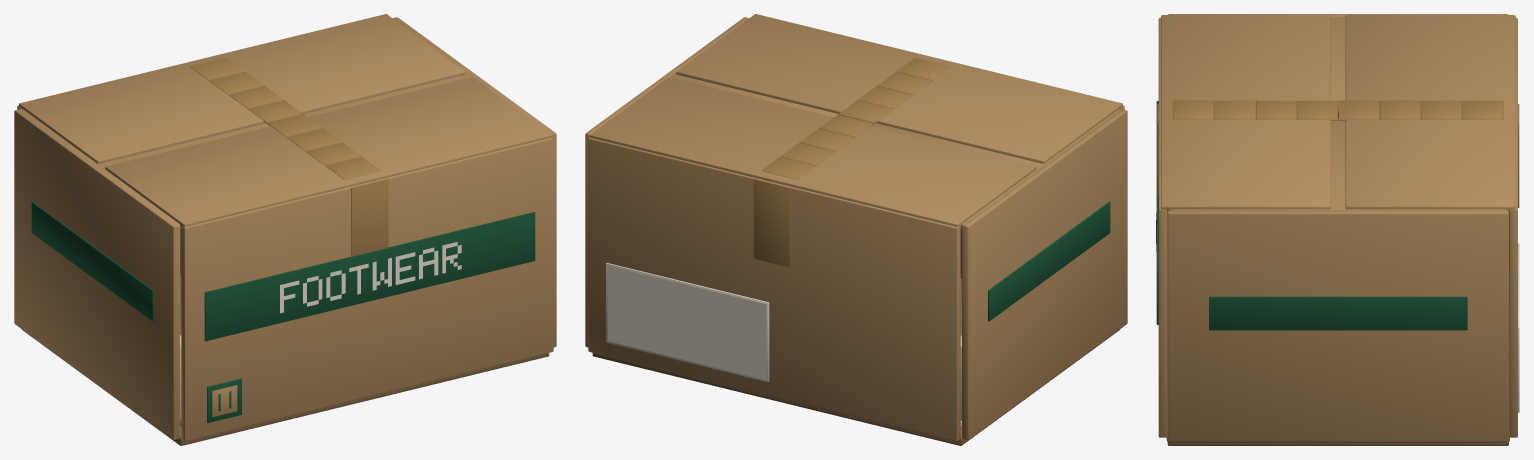
File: delivery_shoe_carton.glb
The picture shows the model from 3 angles, left to right: view 1: azimuth 30°, elevation 25°; view 2: azimuth 150°, elevation 25°; view 3: azimuth 270°, elevation 25°; orthographic projection. The views are drawn at different scales.
Visible parts, largest first — view 1: BOX_FRONT, BOX_LEFT, FLAP_TOP_FRONT, FLAP_TOP_BACK, LABEL_MAIN, TAPE_CENTER, CATEGORY_SIDE_BAND_LEFT, TAPE_SIDE_FRONT, LABEL_CATEGORY_TEXT, BOX_BASE, BOX_RIGHT, FLAP_TOP_LEFT (+3 smaller); view 2: BOX_BACK, BOX_LEFT, FLAP_TOP_BACK, FLAP_TOP_FRONT, LABEL_DYNAMIC, TAPE_CENTER, CATEGORY_SIDE_BAND_LEFT, TAPE_SIDE_BACK, BOX_BASE, BOX_RIGHT, SHIPPING_LABEL_BACKING, FLAP_TOP_LEFT (+1 smaller); view 3: BOX_RIGHT, FLAP_TOP_BACK, FLAP_TOP_FRONT, CATEGORY_SIDE_BAND_RIGHT, TAPE_CENTER, BOX_FRONT, BOX_BACK, FLAP_TOP_RIGHT, BOX_BASE, FLAP_TOP_LEFT, FLAT_PANEL_BASE, LABEL_MAIN (+1 smaller).
Part boxes in pixels (bbox=[...]): BOX_FRONT: bbox=[181, 137, 553, 441]; BOX_LEFT: bbox=[14, 109, 179, 439]; FLAP_TOP_FRONT: bbox=[105, 77, 551, 227]; FLAP_TOP_BACK: bbox=[19, 14, 465, 163]; LABEL_MAIN: bbox=[204, 212, 535, 341]; TAPE_CENTER: bbox=[190, 57, 380, 179]; CATEGORY_SIDE_BAND_LEFT: bbox=[31, 202, 153, 321]; TAPE_SIDE_FRONT: bbox=[351, 179, 388, 256]; LABEL_CATEGORY_TEXT: bbox=[280, 242, 461, 313]; BOX_BASE: bbox=[22, 329, 549, 445]; BOX_RIGHT: bbox=[393, 17, 556, 347]; FLAP_TOP_LEFT: bbox=[21, 109, 270, 228]; BOX_BACK: bbox=[588, 137, 960, 441]; BOX_LEFT: bbox=[962, 109, 1127, 439]; FLAP_TOP_BACK: bbox=[590, 77, 1036, 227]; FLAP_TOP_FRONT: bbox=[676, 14, 1122, 163]; LABEL_DYNAMIC: bbox=[607, 266, 766, 379]; TAPE_CENTER: bbox=[761, 57, 951, 179]; CATEGORY_SIDE_BAND_LEFT: bbox=[988, 202, 1110, 321]; TAPE_SIDE_BACK: bbox=[753, 179, 790, 267]; BOX_BASE: bbox=[592, 329, 1119, 445]; BOX_RIGHT: bbox=[585, 17, 748, 347]; SHIPPING_LABEL_BACKING: bbox=[606, 262, 769, 381]; FLAP_TOP_LEFT: bbox=[871, 109, 1120, 228]; BOX_RIGHT: bbox=[1167, 210, 1508, 441]; FLAP_TOP_BACK: bbox=[1345, 15, 1515, 211]; FLAP_TOP_FRONT: bbox=[1161, 15, 1330, 211]; CATEGORY_SIDE_BAND_RIGHT: bbox=[1209, 296, 1467, 330]; TAPE_CENTER: bbox=[1173, 100, 1503, 120]; BOX_FRONT: bbox=[1158, 17, 1167, 437]; BOX_BACK: bbox=[1509, 18, 1517, 437]; FLAP_TOP_RIGHT: bbox=[1170, 117, 1505, 210]; BOX_BASE: bbox=[1167, 442, 1508, 445]; FLAP_TOP_LEFT: bbox=[1331, 16, 1345, 115]; FLAT_PANEL_BASE: bbox=[1166, 436, 1509, 442]; LABEL_MAIN: bbox=[1156, 101, 1158, 324].
Size of what is drawn, in the model's own units: 0.5842 by 0.3245 by 0.4452.
